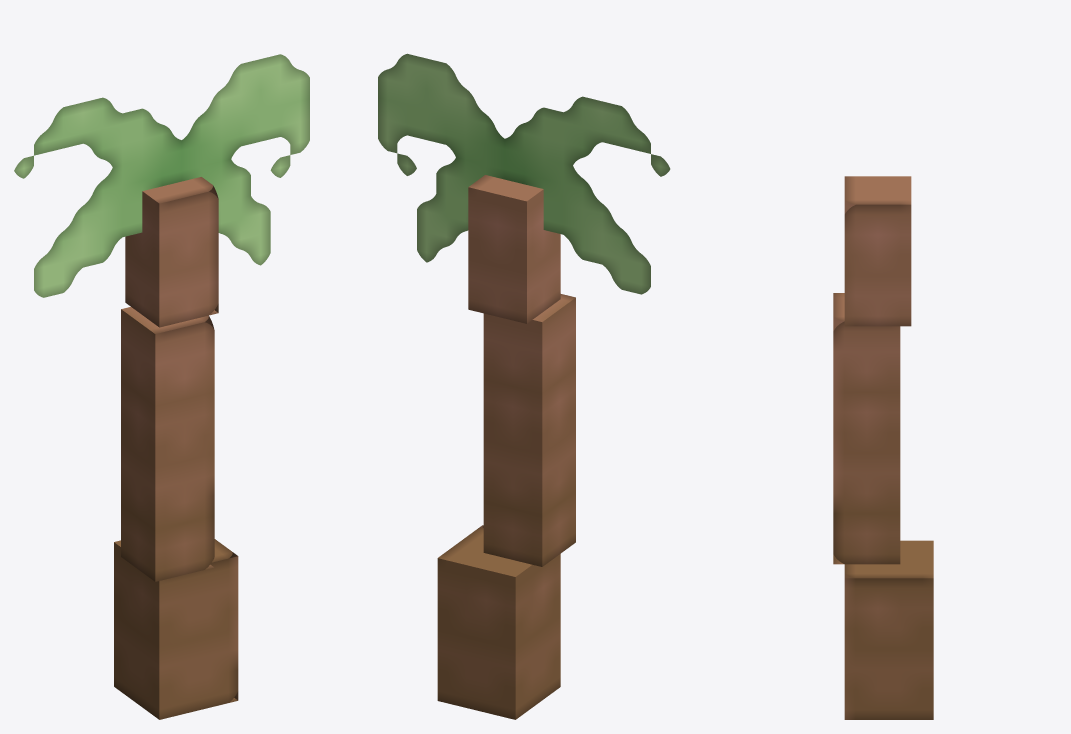
Rendered from PalmTreeStage2.fbx.
3 views of the same model, side by side, from view 1: azimuth 30°, elevation 25°; view 2: azimuth 150°, elevation 25°; view 3: azimuth 270°, elevation 25° (orthographic). The views are drawn at different scales.
Visible parts, largest first — view 1: crown, trunk_2, trunk, trunk_1; view 2: crown, trunk_2, trunk, trunk_1; view 3: trunk_2, trunk, trunk_1.
Part boxes in pixels (left/top/right/bottom): crown: left=14, top=54, right=309, bottom=297; trunk_2: left=121, top=307, right=214, bottom=581; trunk: left=114, top=539, right=238, bottom=719; trunk_1: left=125, top=177, right=218, bottom=327; crown: left=378, top=53, right=670, bottom=294; trunk_2: left=483, top=294, right=575, bottom=566; trunk: left=437, top=525, right=560, bottom=719; trunk_1: left=468, top=175, right=560, bottom=323; trunk_2: left=833, top=293, right=900, bottom=564; trunk: left=844, top=540, right=933, bottom=719; trunk_1: left=844, top=176, right=911, bottom=326.
Size of the model in its own units: 50 by 93.75 by 50.
1 material, 1 textured.
